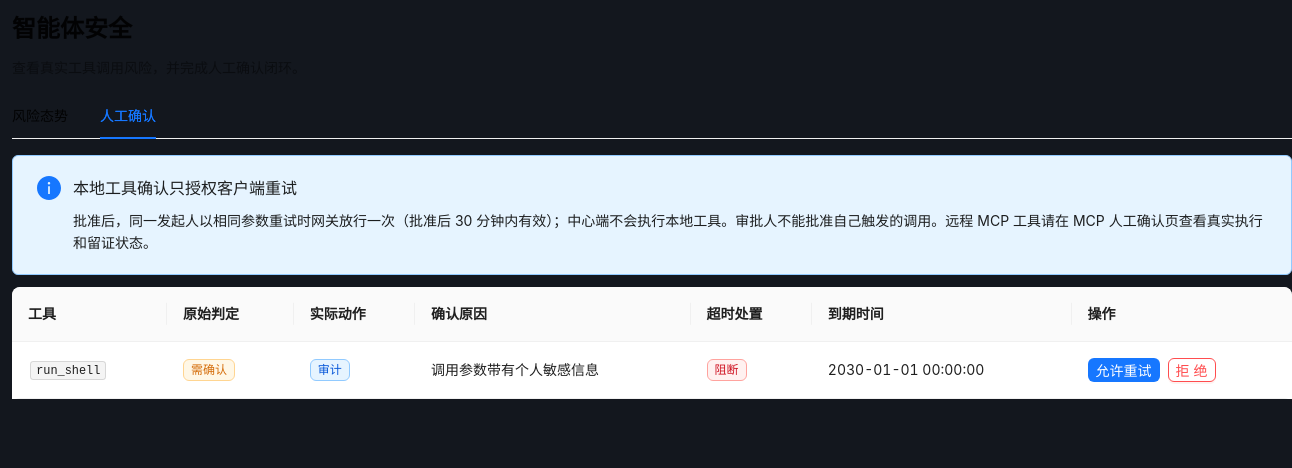
AgentSecurity customer boundary › rechecks pending confirmations after a 503 without asserting the action failed
Check: the text "run_shell" is shown, box top-left (30, 361), bottom-right (106, 380)
Click the button named "拒绝本次调用" at (1192, 370), box top-left (1168, 358), bottom-right (1216, 382)
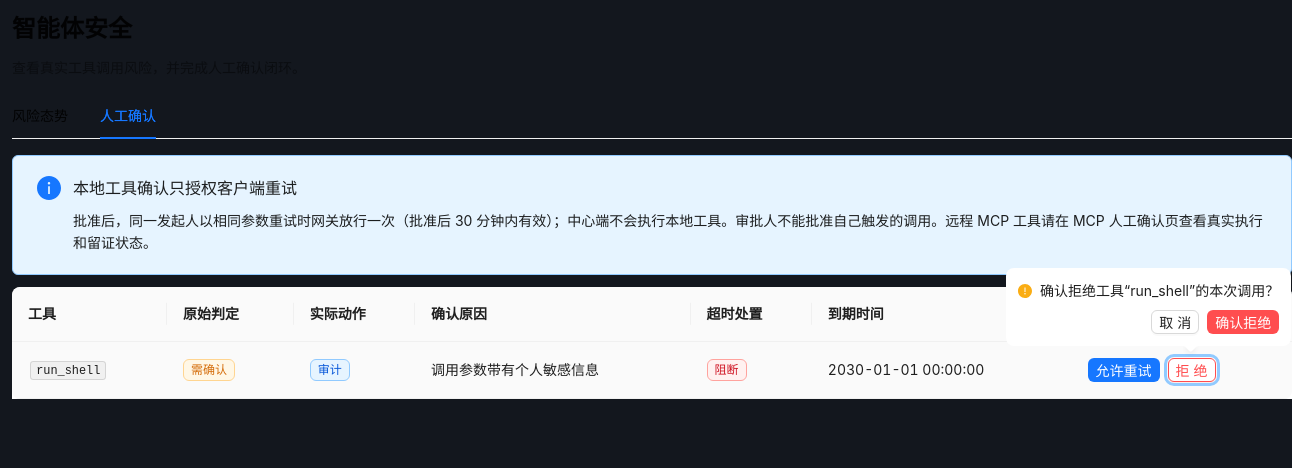
Check: the text "确认拒绝工具“run_shell”的本次调用？" is shown, box top-left (1040, 280), bottom-right (1279, 302)
Click the button "确认拒绝" at (1243, 322), box top-left (1207, 310), bottom-right (1279, 334)
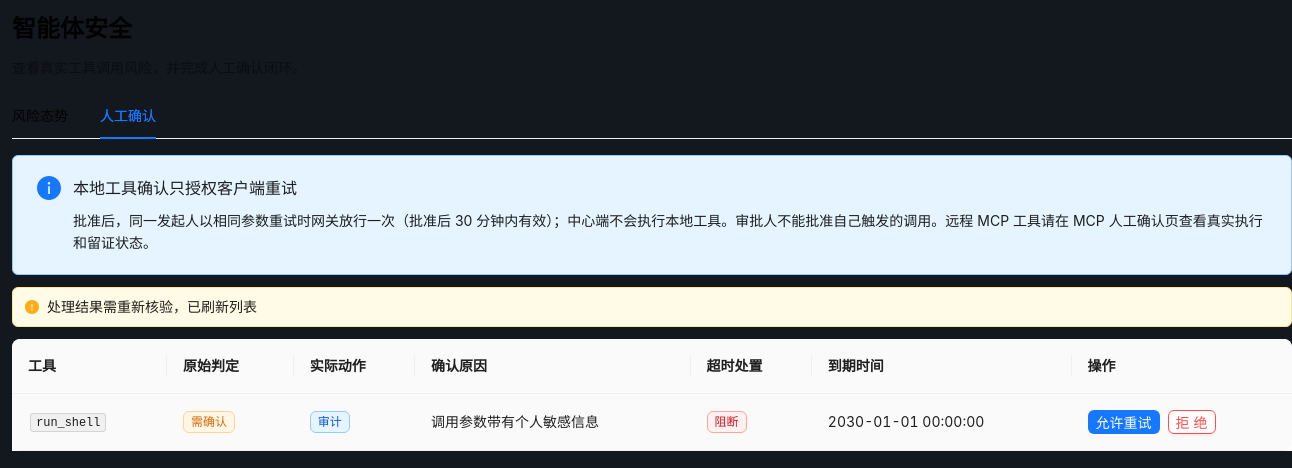
Check: the text "处理结果需重新核验，已刷新列表" is shown, box top-left (47, 298), bottom-right (257, 314)
